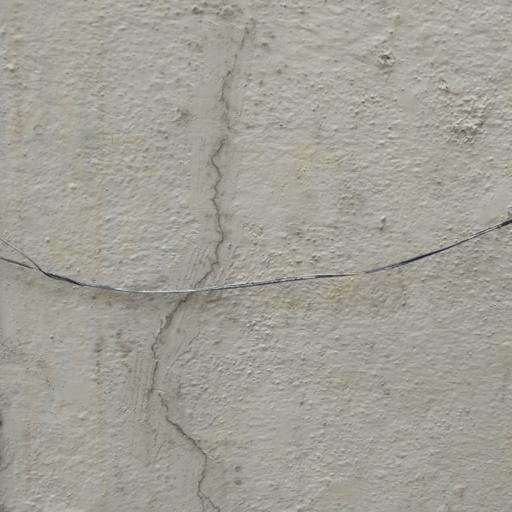minor_crack: (141, 0, 261, 512)
